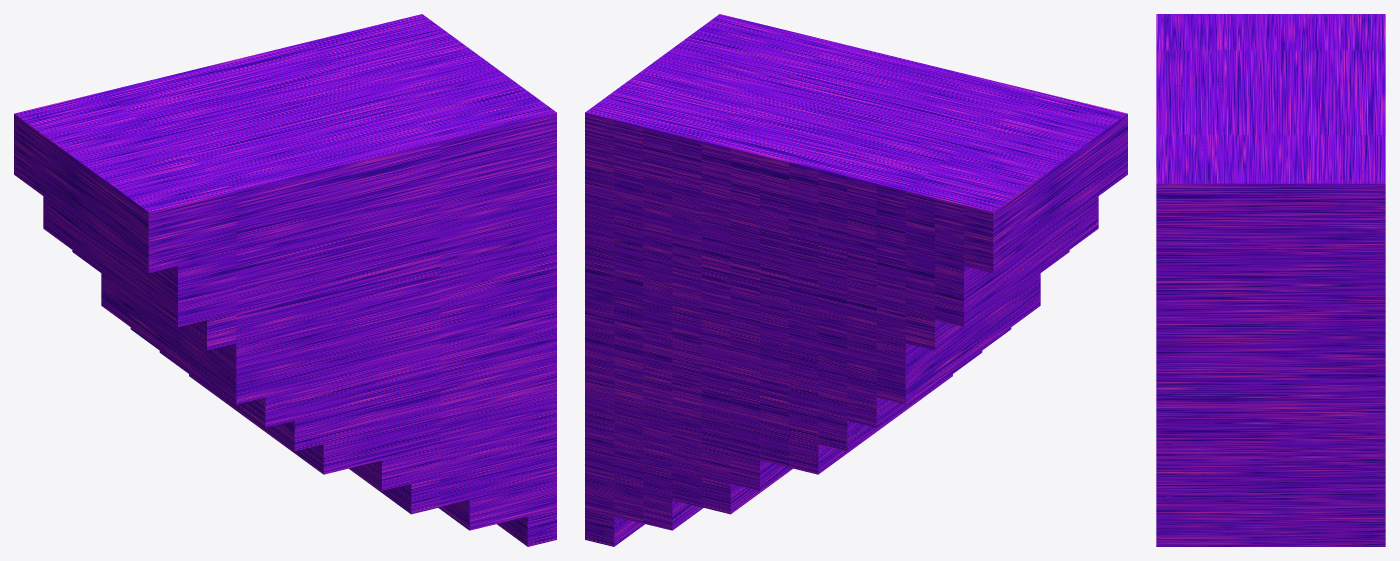
Rendered from tier0_piece_20.obj.
3 views of the same model, side by side, from view 1: azimuth 30°, elevation 25°; view 2: azimuth 150°, elevation 25°; view 3: azimuth 270°, elevation 25° (orthographic). The views are drawn at different scales.
Visible parts, largest first — view 1: tier0_piece_20; view 2: tier0_piece_20; view 3: tier0_piece_20.
Boxes of the visible parts, x1,y1,x2,y2 form: tier0_piece_20: (14, 14, 556, 546); tier0_piece_20: (585, 14, 1127, 546); tier0_piece_20: (1156, 14, 1385, 546).
Bounding box in the file's own units: 0.875 × 0.875 × 0.5.
